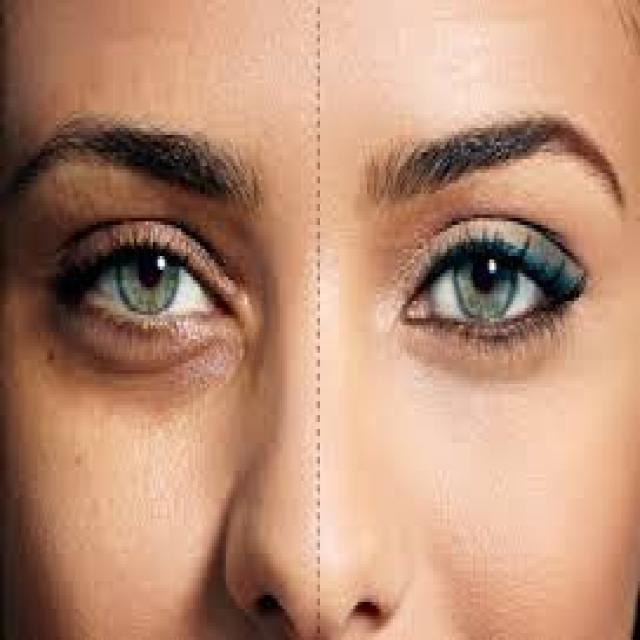Puffy Eyes - v3 Dark Circle: (54, 316, 256, 431)
